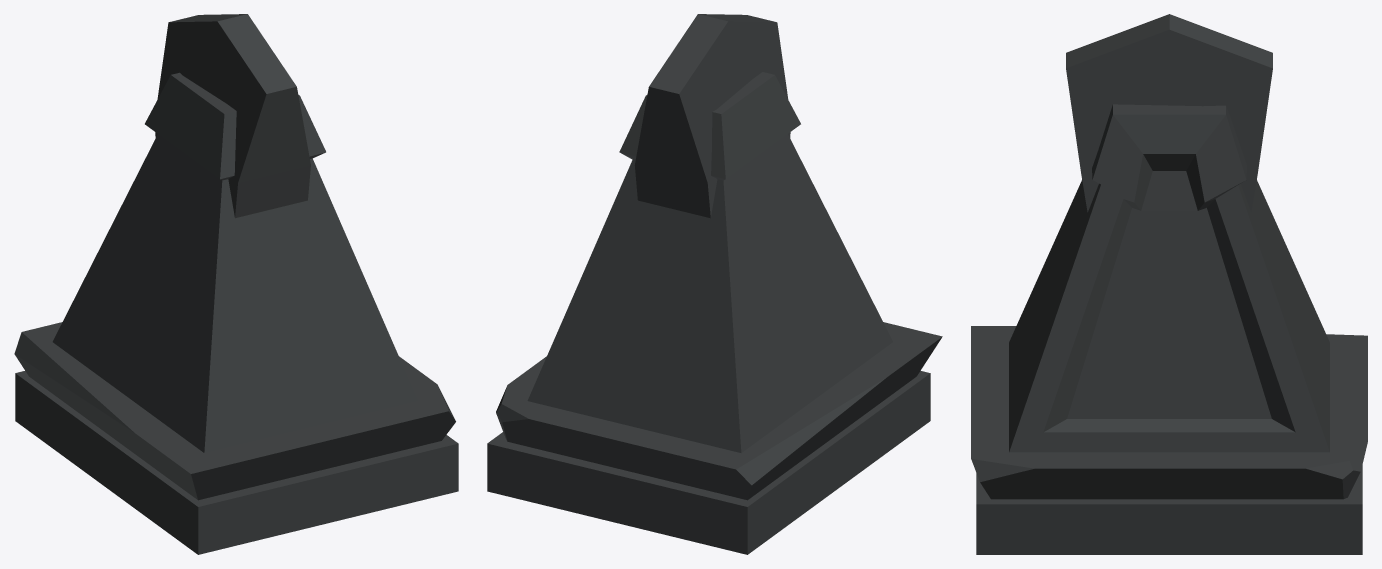
The model's file is gravestone6.fbx.
The picture shows the model from 3 angles, left to right: view 1: azimuth 30°, elevation 25°; view 2: azimuth 150°, elevation 25°; view 3: azimuth 270°, elevation 25°; orthographic projection. The views are drawn at different scales.
Visible parts, largest first — view 1: gravestone6; view 2: gravestone6; view 3: gravestone6.
Part boxes in pixels (left/top/right/bottom): gravestone6: left=14, top=14, right=458, bottom=554; gravestone6: left=487, top=14, right=942, bottom=554; gravestone6: left=971, top=14, right=1367, bottom=554.
Size of the model in its own units: 1.54 by 2.34 by 1.81.
